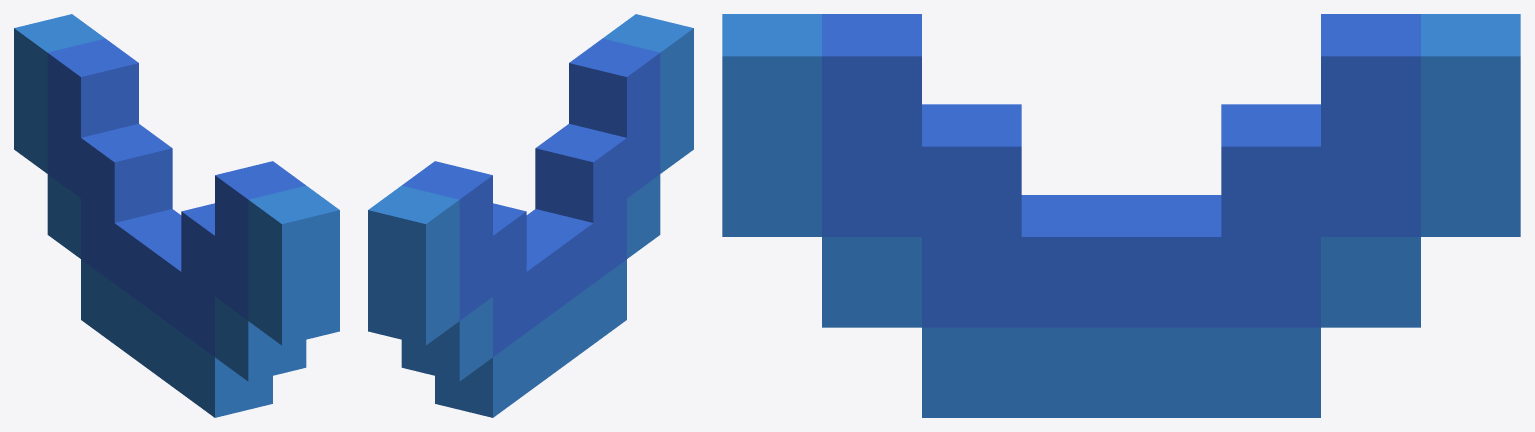
File: AA_Proj_GalactusShield.fbx
3 views of the same model, side by side, from view 1: azimuth 30°, elevation 25°; view 2: azimuth 150°, elevation 25°; view 3: azimuth 270°, elevation 25° (orthographic). The views are drawn at different scales.
Visible parts, largest first — view 1: Cube.052, Cube.032, Cube.042, Cube.063, Cube.002, Cube.016, Cube.041, Cube.047, Cube.019, Cube.018, Cube.049, Cube.048 (+8 smaller); view 2: Cube.049, Cube.041, Cube.047, Cube.054, Cube.005, Cube.021, Cube.032, Cube.042, Cube.018, Cube.019, Cube.052, Cube.053 (+8 smaller); view 3: Cube.019, Cube.018, Cube.052, Cube.049, Cube.047, Cube.042, Cube.041, Cube.032, Cube.003, Cube.004, Cube.063, Cube.054 (+8 smaller).
Boxes of the visible parts, x1,y1,x2,y2 form: Cube.052: [81, 124, 172, 222]; Cube.032: [248, 185, 339, 284]; Cube.042: [47, 38, 138, 137]; Cube.063: [248, 260, 339, 345]; Cube.002: [181, 333, 272, 417]; Cube.016: [215, 297, 306, 381]; Cube.041: [14, 14, 105, 112]; Cube.047: [215, 161, 305, 259]; Cube.019: [114, 209, 181, 307]; Cube.018: [148, 239, 181, 332]; Cube.049: [181, 203, 214, 296]; Cube.048: [215, 236, 248, 320]; Cube.049: [535, 124, 626, 222]; Cube.041: [368, 185, 459, 284]; Cube.047: [569, 38, 660, 137]; Cube.054: [368, 260, 459, 345]; Cube.005: [435, 333, 526, 417]; Cube.021: [401, 297, 492, 381]; Cube.032: [602, 14, 693, 112]; Cube.042: [402, 161, 492, 259]; Cube.018: [526, 209, 593, 307]; Cube.019: [526, 239, 559, 332]; Cube.052: [493, 203, 526, 296]; Cube.053: [459, 236, 492, 320]; Cube.019: [1121, 195, 1221, 327]; Cube.018: [1021, 195, 1121, 327]; Cube.052: [1221, 104, 1320, 236]; Cube.049: [922, 104, 1021, 236]; Cube.047: [822, 14, 921, 146]; Cube.042: [1321, 14, 1420, 146]; Cube.041: [1421, 14, 1520, 146]; Cube.032: [722, 14, 821, 146]; Cube.003: [1021, 327, 1121, 417]; Cube.004: [1121, 327, 1221, 417]; Cube.063: [722, 146, 821, 236]; Cube.054: [1421, 146, 1520, 236].
Size of the model in its own units: 200 by 800 by 1600.
